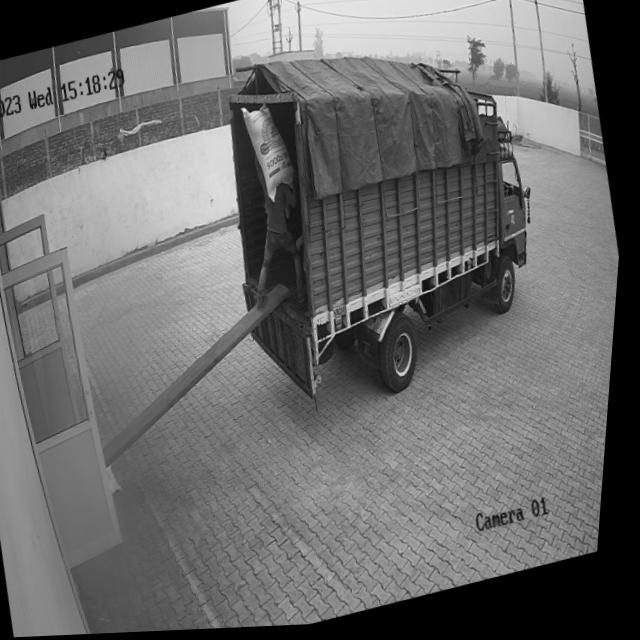sack: (235, 96, 306, 210)
